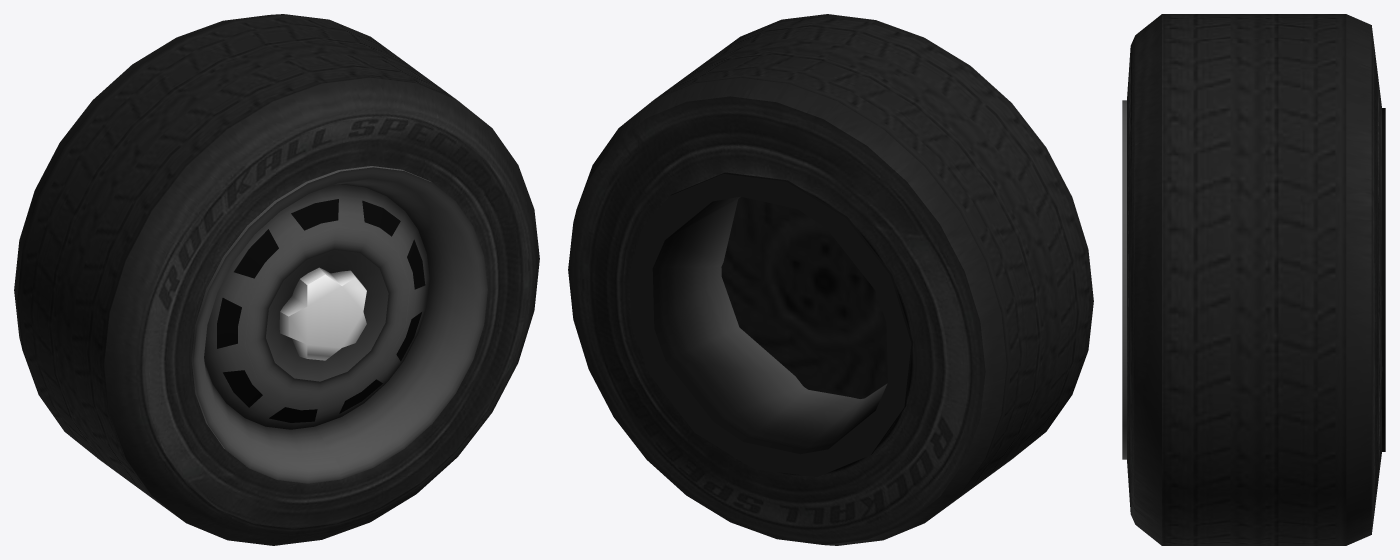
Rendered from wheel.glb.
3 renders of one model, left to right at view 1: azimuth 30°, elevation 25°; view 2: azimuth 150°, elevation 25°; view 3: azimuth 270°, elevation 25°, orthographic. The views are drawn at different scales.
Parts seen in each view (by area): view 1: Illinois90taxi_Wheel_FL_RB1c_Tire_0; view 2: Illinois90taxi_Wheel_FL_RB1c_Tire_0; view 3: Illinois90taxi_Wheel_FL_RB1c_Tire_0.
Boxes of the visible parts, x1,y1,x2,y2 form: Illinois90taxi_Wheel_FL_RB1c_Tire_0: [14, 14, 539, 545]; Illinois90taxi_Wheel_FL_RB1c_Tire_0: [568, 14, 1093, 545]; Illinois90taxi_Wheel_FL_RB1c_Tire_0: [1122, 14, 1385, 545].
Size of the model in its own units: 0.7677 by 0.7677 by 0.3796.
1 material, 1 textured.
